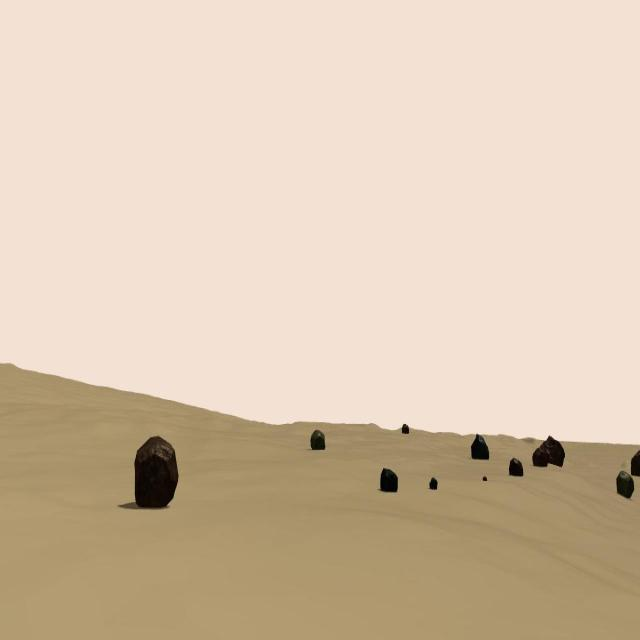rock: (134, 434, 178, 507), (541, 434, 565, 467), (471, 433, 489, 460), (617, 471, 634, 499), (380, 467, 398, 493), (310, 430, 325, 451), (532, 446, 547, 466), (509, 456, 524, 475), (631, 450, 640, 476), (430, 475, 438, 488), (402, 423, 408, 432), (483, 477, 487, 481)
